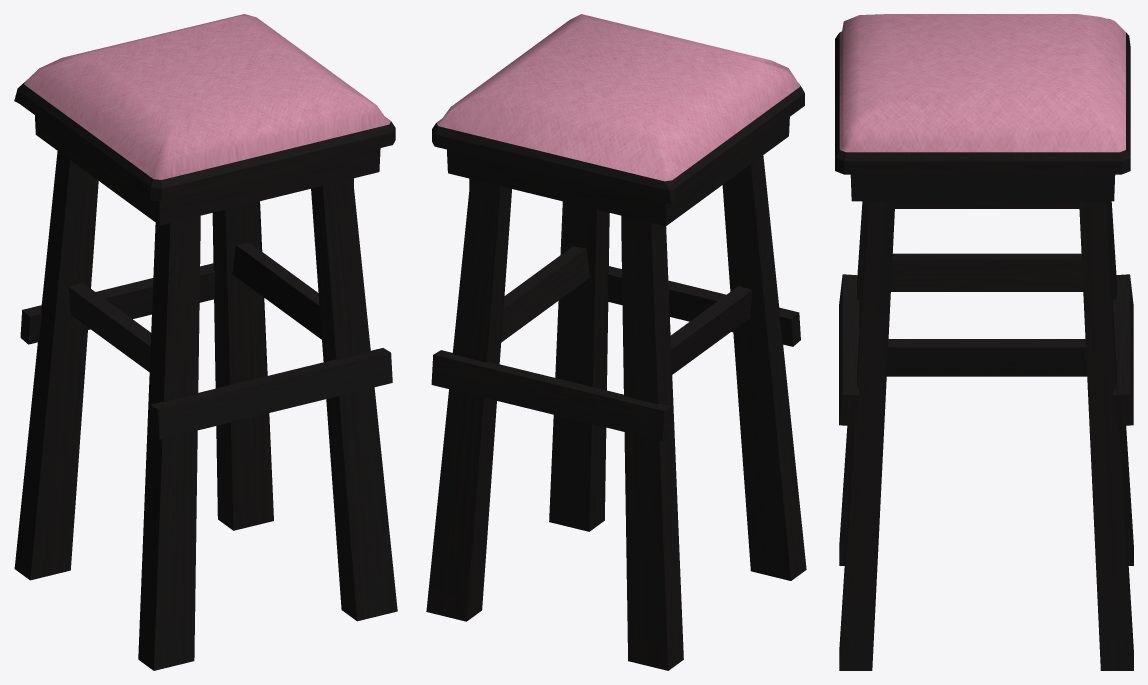
Rendered from Barstool_G.FBX.
3 renders of one model, left to right at view 1: azimuth 30°, elevation 25°; view 2: azimuth 150°, elevation 25°; view 3: azimuth 270°, elevation 25°, orthographic. The views are drawn at different scales.
Visible parts, largest first — view 1: Bar_Stool; view 2: Bar_Stool; view 3: Bar_Stool.
Part boxes in pixels (left/top/right/bottom): Bar_Stool: left=14, top=14, right=397, bottom=670; Bar_Stool: left=426, top=14, right=806, bottom=670; Bar_Stool: left=835, top=14, right=1133, bottom=670.
Bounding box in the file's own units: 85.32 × 174 × 84.9.
